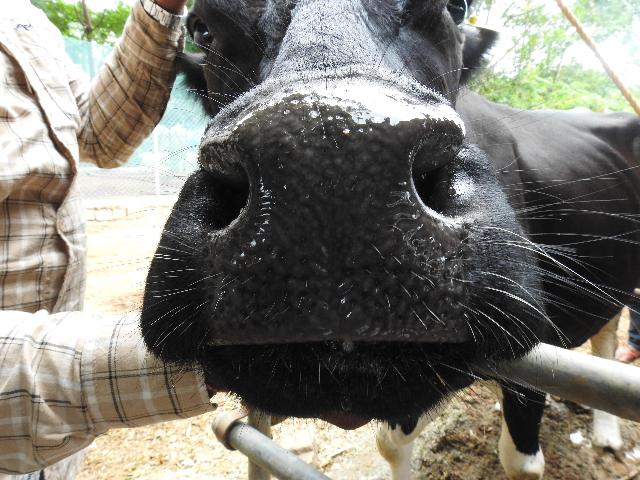Muzzle: (245, 104, 425, 328)
